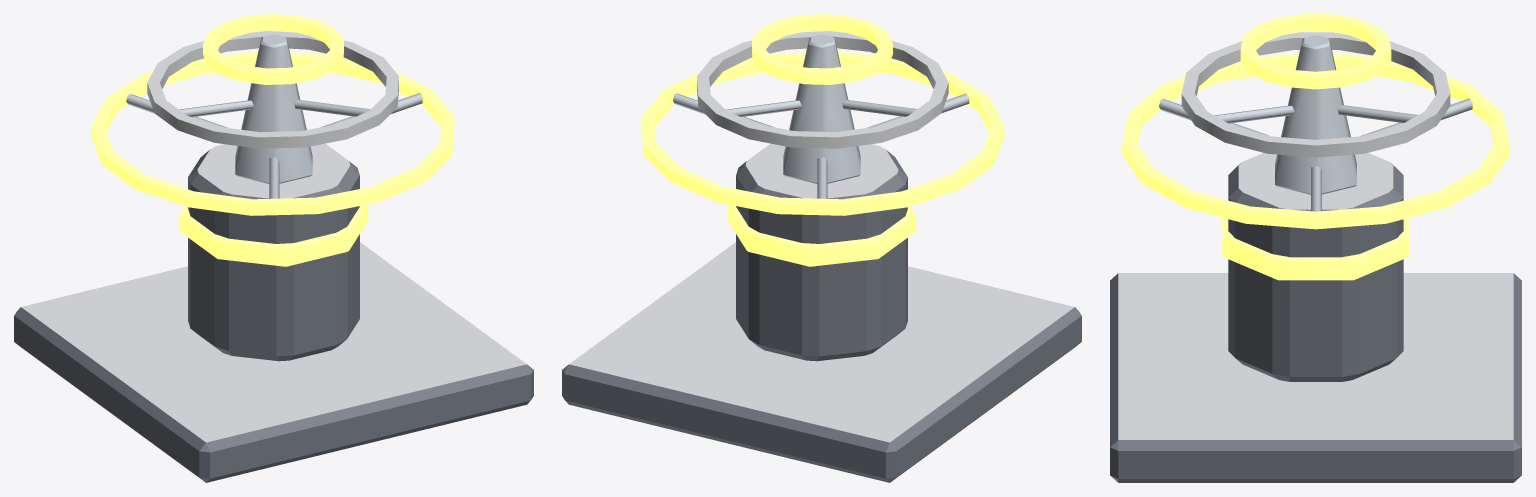
The model's file is R4X_SupportTurretDeployer_LOD1.fbx.
3 views of the same model, side by side, from view 1: azimuth 30°, elevation 25°; view 2: azimuth 150°, elevation 25°; view 3: azimuth 270°, elevation 25° (orthographic). The views are drawn at different scales.
Parts seen in each view (by area): view 1: R4X_SupportTurretDeployer_LOD1; view 2: R4X_SupportTurretDeployer_LOD1; view 3: R4X_SupportTurretDeployer_LOD1.
Boxes of the visible parts, left/top/right/bottom form: R4X_SupportTurretDeployer_LOD1: left=14, top=14, right=533, bottom=482; R4X_SupportTurretDeployer_LOD1: left=562, top=14, right=1081, bottom=482; R4X_SupportTurretDeployer_LOD1: left=1110, top=14, right=1521, bottom=482.
Size of the model in its own units: 0.52 by 0.5 by 0.52.
